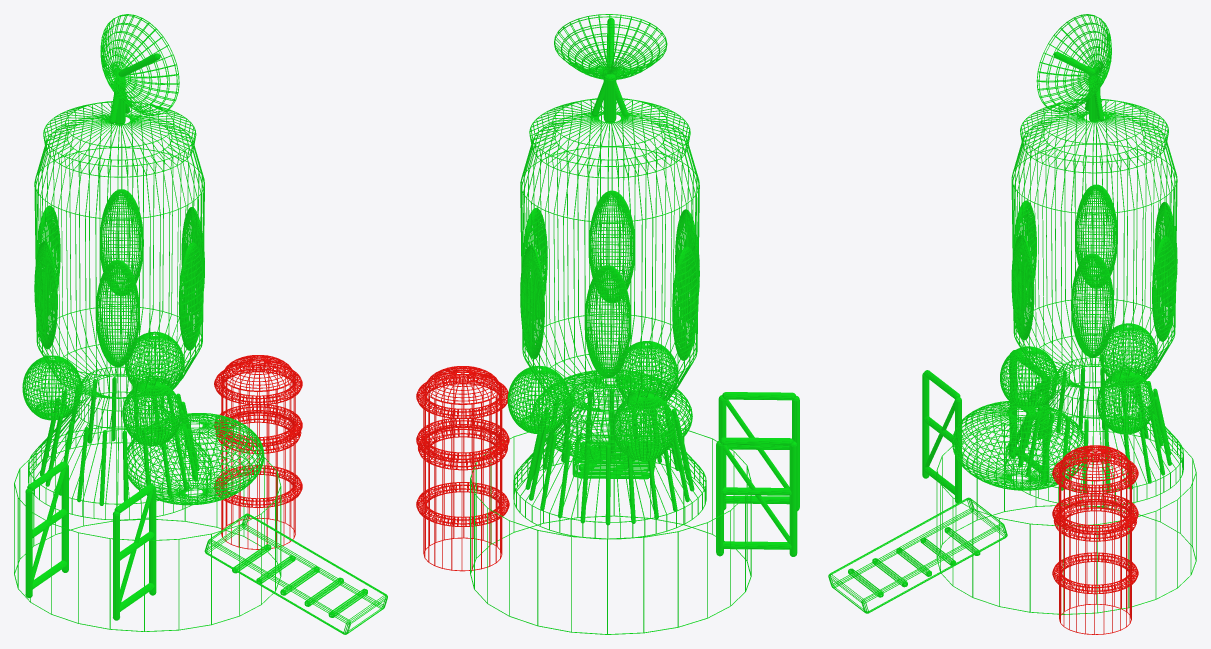
Rendered from ore-teleporter-highlight-data-throughput-supercomputer.glb.
3 renders of one model, left to right at view 1: azimuth 30°, elevation 25°; view 2: azimuth 150°, elevation 25°; view 3: azimuth 270°, elevation 25°, orthographic. The views are drawn at different scales.
Parts seen in each view (by area): view 1: chassis technical wire, data-throughput-supercomputer technical wire, atomic-scan-generators technical wire, long-range-transceiver technical wire; view 2: chassis technical wire, data-throughput-supercomputer technical wire, atomic-scan-generators technical wire, long-range-transceiver technical wire; view 3: chassis technical wire, data-throughput-supercomputer technical wire, atomic-scan-generators technical wire, long-range-transceiver technical wire.
Part boxes in pixels (box(x1,y1,x2,y2)): chassis technical wire: box(14, 101, 387, 634); data-throughput-supercomputer technical wire: box(214, 355, 302, 549); atomic-scan-generators technical wire: box(22, 331, 184, 445); long-range-transceiver technical wire: box(100, 14, 179, 125); chassis technical wire: box(470, 98, 799, 634); data-throughput-supercomputer technical wire: box(416, 366, 509, 571); atomic-scan-generators technical wire: box(507, 341, 678, 461); long-range-transceiver technical wire: box(554, 14, 667, 123); chassis technical wire: box(828, 99, 1196, 614); data-throughput-supercomputer technical wire: box(1052, 445, 1138, 634); atomic-scan-generators technical wire: box(1000, 323, 1157, 434); long-range-transceiver technical wire: box(1036, 14, 1111, 122).
Size of the model in its own units: 1.66 by 2.78 by 1.74.
